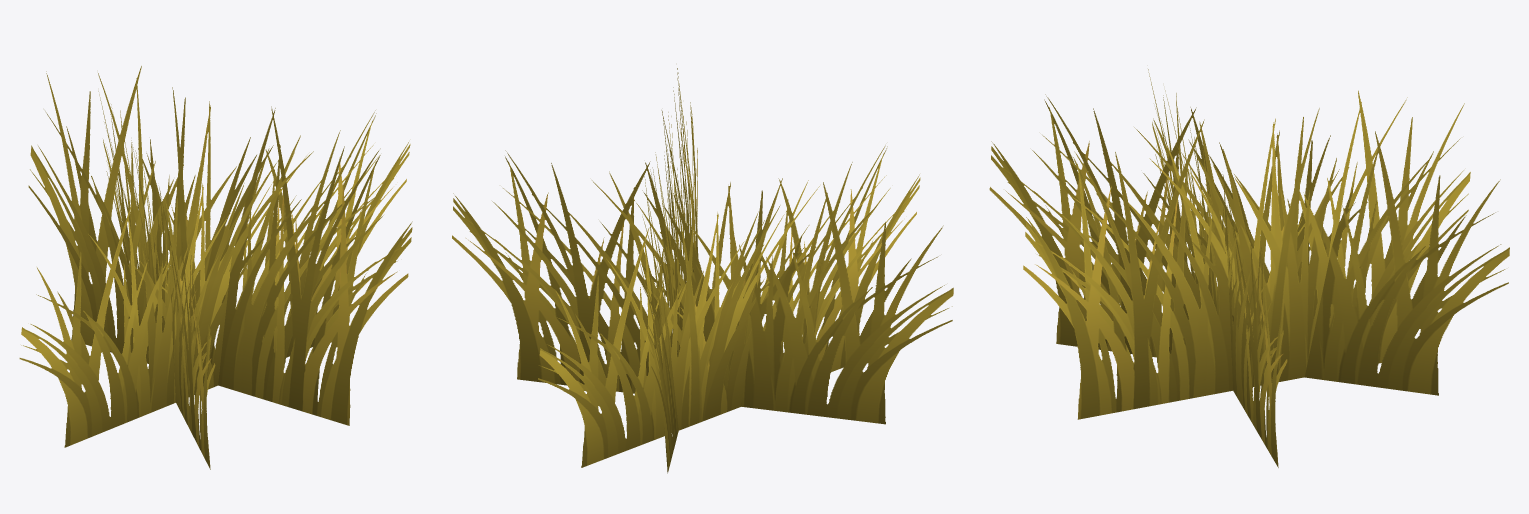
File: alpine_grass_1_burnt1.glb
The picture shows the model from 3 angles, left to right: view 1: azimuth 30°, elevation 25°; view 2: azimuth 150°, elevation 25°; view 3: azimuth 270°, elevation 25°; orthographic projection. The views are drawn at different scales.
Visible parts, largest first — view 1: alpine_grass_1_burnt1; view 2: alpine_grass_1_burnt1; view 3: alpine_grass_1_burnt1.
Part boxes in pixels (x1=…): alpine_grass_1_burnt1: x1=19, y1=66, x2=412, y2=469; alpine_grass_1_burnt1: x1=452, y1=68, x2=953, y2=473; alpine_grass_1_burnt1: x1=989, y1=69, x2=1509, y2=467.
Size of the model in its own units: 0.5373 by 0.3383 by 0.5177.
Materials: 1 (1 with a texture image).
